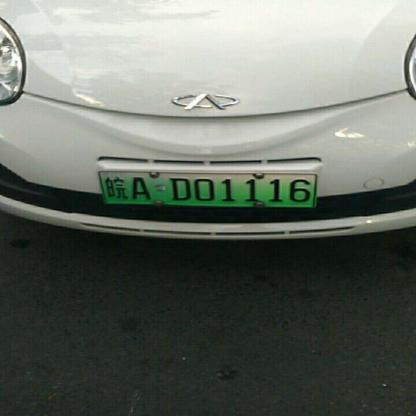lp: (100, 170, 316, 204)
